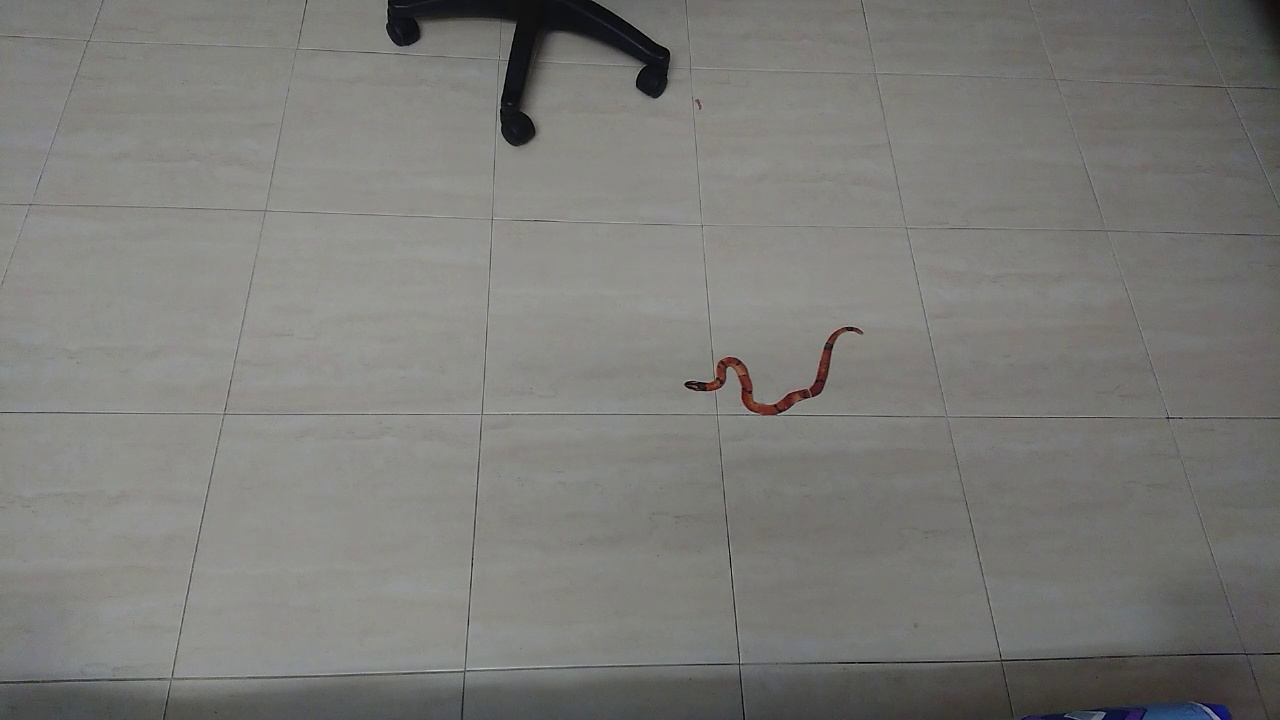snake: (665, 309, 878, 433)
